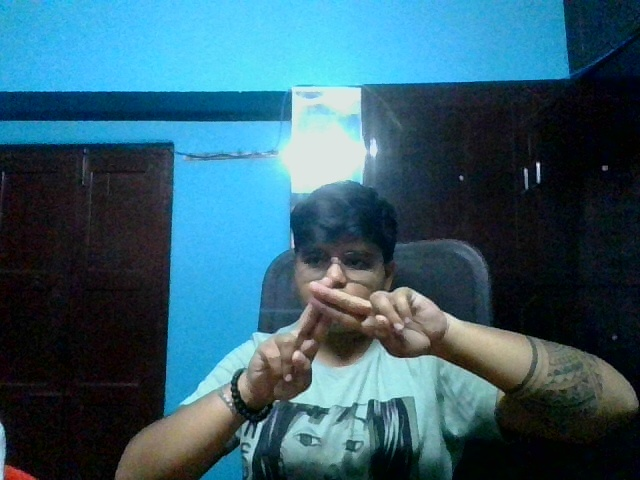F: (240, 277, 445, 406)
